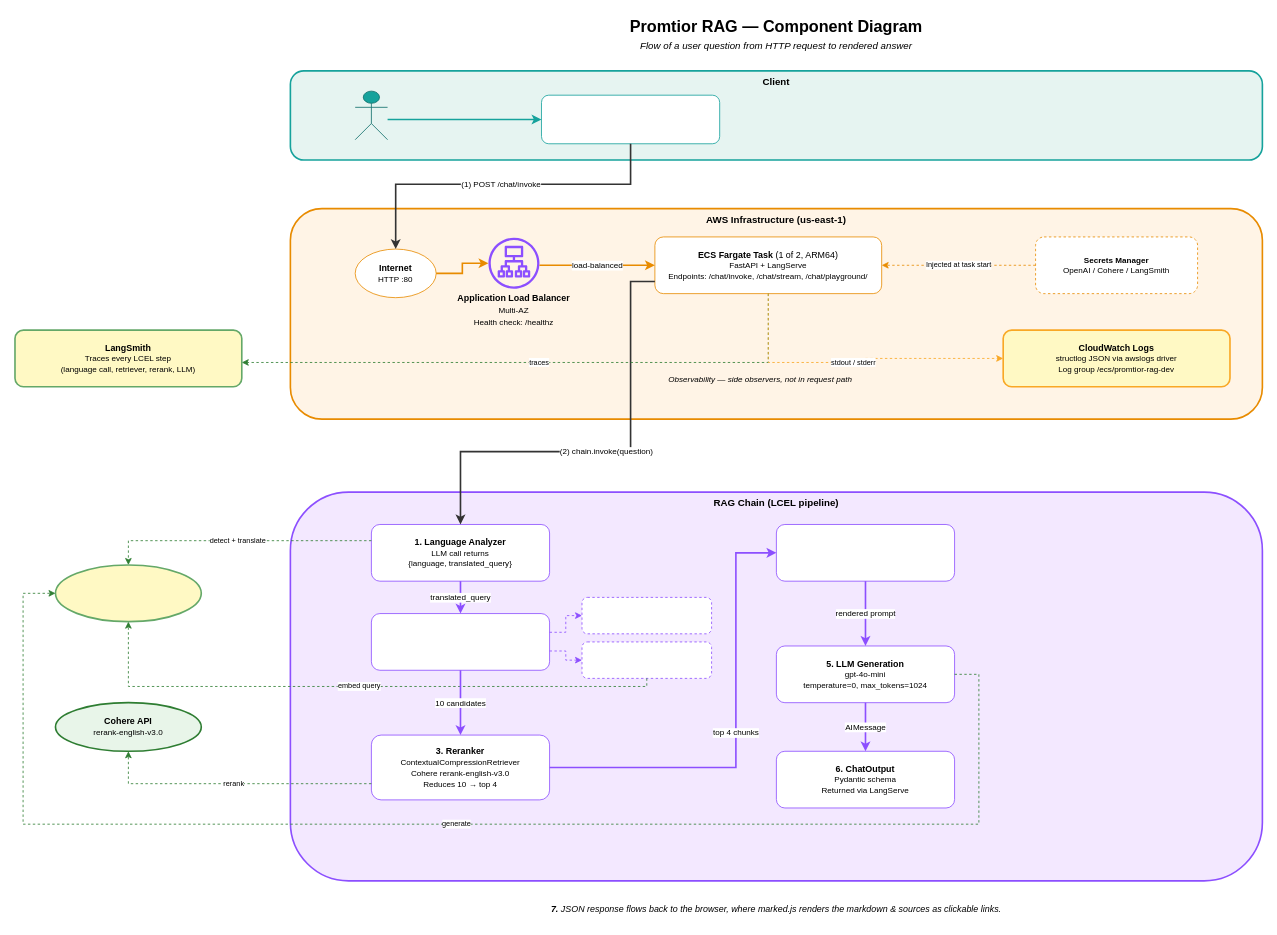
The diagram is 1277 pixels wide and 935 high, and some of its shapes have lost their labels. The shapes that lost their labels are listed below. From the top down, each one's box as (x1, y1, x2, y2) in pixels, then its label:
(354, 90, 388, 140): User
(541, 94, 720, 144): Browser: Chat UI HTML + Tailwind + marked.js Renders markdown, parses sources
(776, 524, 955, 581): 4. Prompt Assembly System prompt + context + question + language
(54, 564, 202, 622): OpenAI API gpt-4o-mini text-embedding-3-small
(581, 597, 712, 634): BM25 (lexical)
(371, 613, 550, 670): 2. Hybrid Retriever EnsembleRetriever (w: 0.4 / 0.6) Returns top 10 candidates
(581, 641, 712, 678): FAISS (semantic)
